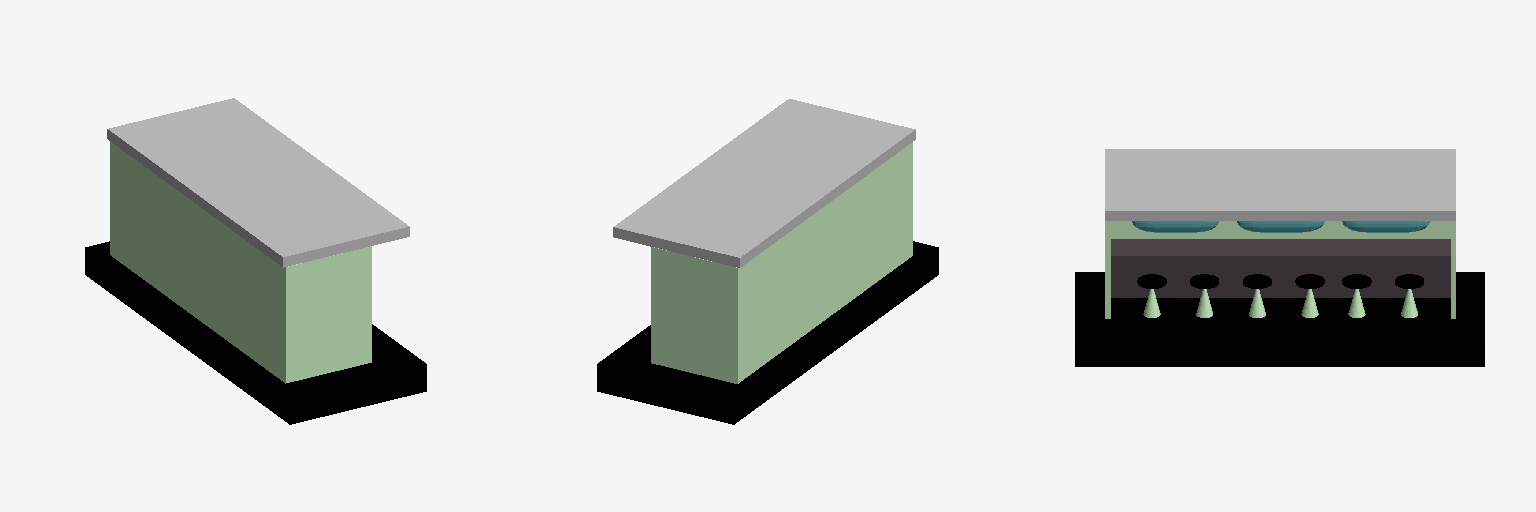
Rendered from pitwallbrawngp.obj.
3 views of the same model, side by side, from view 1: azimuth 30°, elevation 25°; view 2: azimuth 150°, elevation 25°; view 3: azimuth 270°, elevation 25° (orthographic).
Visible parts, largest first — view 1: Kocka.004_Kocka.022, Kocka_Kocka.016, Kocka.006_Kocka, Kocka.001_Kocka.017; view 2: Kocka.004_Kocka.022, Kocka_Kocka.016, Kocka.006_Kocka, Kocka.003_Kocka.021; view 3: Kocka.006_Kocka, Kocka.004_Kocka.022, Kocka.005_Kocka.023, Kocka_Kocka.016, Mgömb_Mgömb.001, Kocka.001_Kocka.017.
Part boxes in pixels (bbox=[...]): Kocka.004_Kocka.022: bbox=[107, 98, 409, 267]; Kocka_Kocka.016: bbox=[110, 141, 290, 383]; Kocka.006_Kocka: bbox=[85, 241, 426, 424]; Kocka.001_Kocka.017: bbox=[291, 246, 371, 381]; Kocka.004_Kocka.022: bbox=[613, 99, 915, 267]; Kocka_Kocka.016: bbox=[732, 142, 912, 383]; Kocka.006_Kocka: bbox=[597, 241, 938, 424]; Kocka.003_Kocka.021: bbox=[651, 247, 731, 382]; Kocka.006_Kocka: bbox=[1075, 272, 1484, 366]; Kocka.004_Kocka.022: bbox=[1105, 149, 1455, 220]; Kocka.005_Kocka.023: bbox=[1111, 239, 1450, 297]; Kocka_Kocka.016: bbox=[1111, 221, 1450, 238]; Mgömb_Mgömb.001: bbox=[1132, 221, 1429, 232]; Kocka.001_Kocka.017: bbox=[1105, 221, 1110, 318].
Size of the model in its own units: 27 by 29.13 by 70.